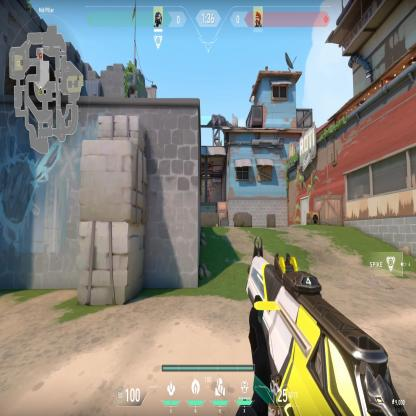enemy: (207, 187, 210, 202)
